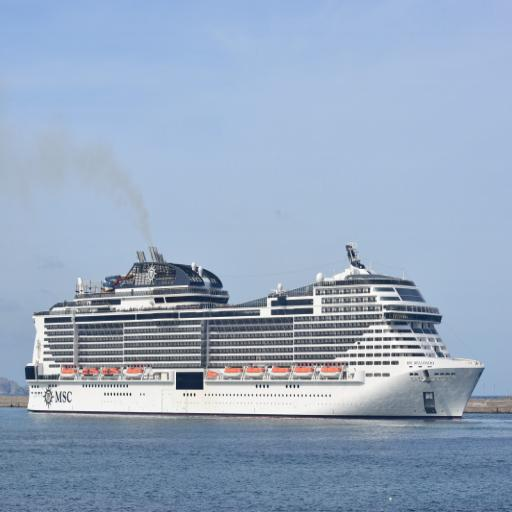cruises: (20, 238, 488, 427)
